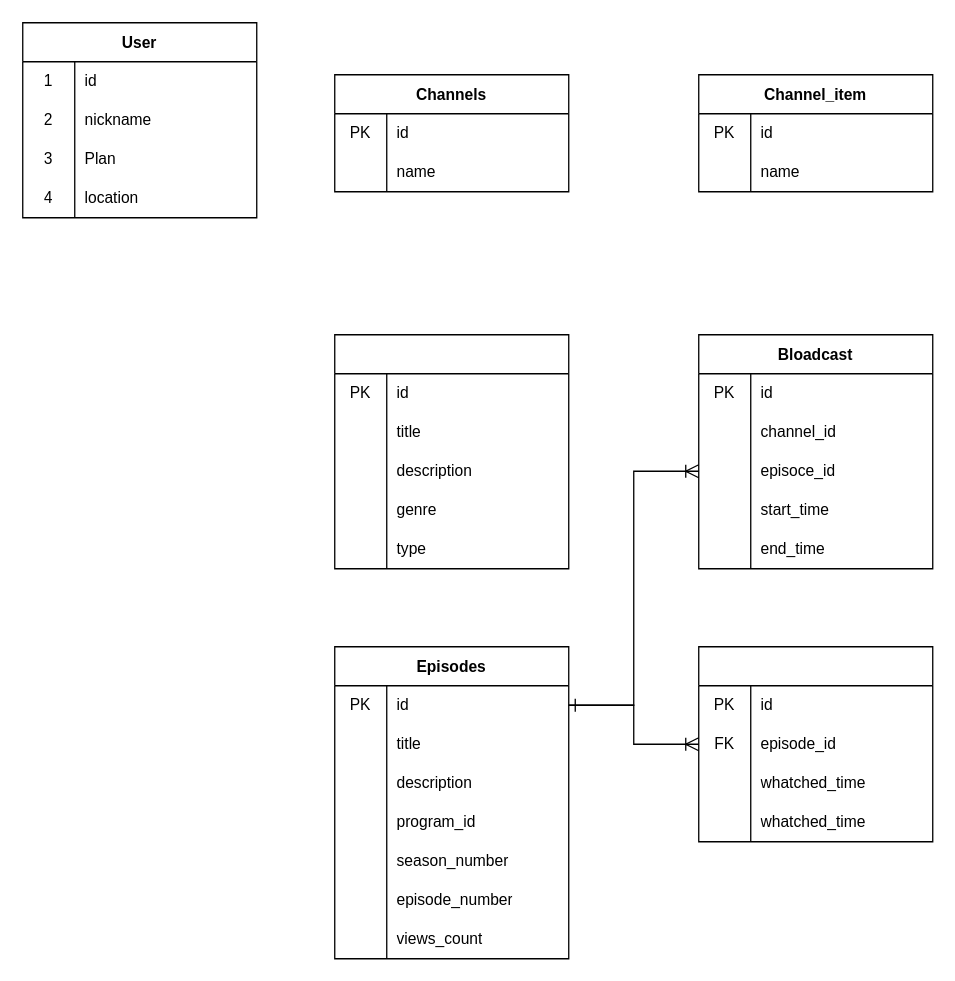
This 955x981 diagram has some shape labels left out. The shapes that lost their labels are listed below. From the top down, each one's box as (x1, y1, x2, y2) in pixels, then its label:
(333, 333, 569, 569): Programs
(697, 645, 933, 842): Views
